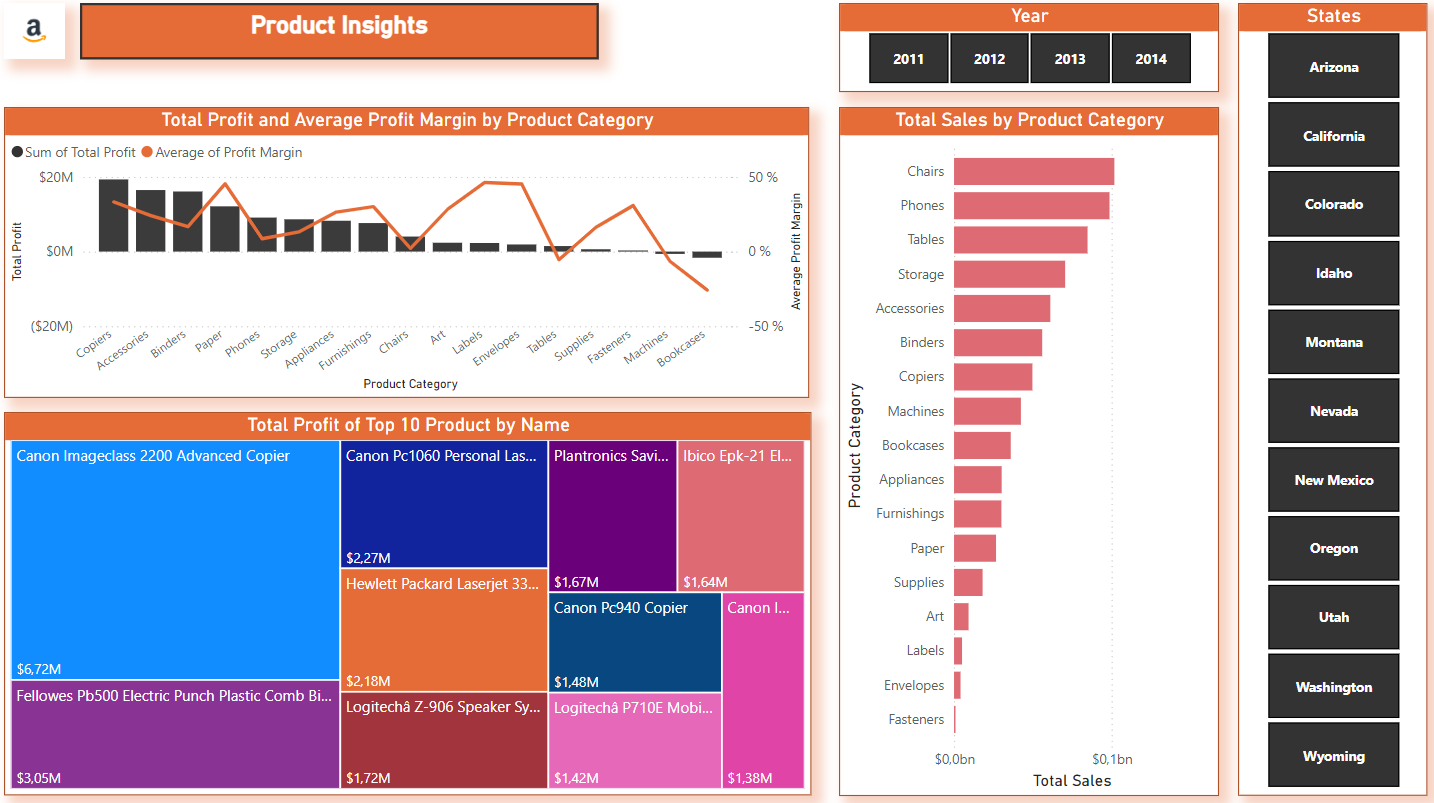

The page's visual inventory and layout, read from the dashboard file:
{"tool":"powerbi","page":{"name":"Product Insights","canvas":[1280,720],"ordinal":1},"visuals":[{"type":"lineClusteredColumnComboChart","title":"Total Profit and Average Profit Margin by  Product Category","fields":{"Category":["Sales.Category"],"Y":["Sum(Sales.Total Profit)"],"Y2":["Avg(Sales.Profit Margin)"]},"box":[8.8,100.2,713.9,257.8],"z":0},{"type":"treemap","title":" Total Profit of Top 10 Product by Name","fields":{"Group":["Sales.Product Name"],"Values":["Sum(Sales.Total Profit)"]},"box":[8.8,370.6,715.9,340.4],"z":1000},{"type":"clusteredBarChart","title":"Total Sales by Product  Category","fields":{"Y":["Sum(Sales.Total Sales)"],"Category":["Sales.Category"]},"box":[748.9,100.2,336.5,610.8],"z":2000},{"type":"slicer","title":"Year","fields":{"Values":["Dates.Year"]},"box":[748.9,7.8,336.5,78.8],"z":3000},{"type":"slicer","title":"States","fields":{"Values":["Sales.States"]},"box":[1103,7.8,168.3,703.2],"z":4000},{"type":"image","box":[8.8,7.8,54.5,49.6],"z":5000},{"type":"textbox","box":[75.9,7.8,460.1,49.6],"z":6000}]}

Visuals, with their boxes in screenshot pixels (x1, y1, x2, y2), scaled from the page's 1280x720 canvas onto the 1434x803 screenshot:
"Total Profit and Average Profit Margin by  Product Category" lineClusteredColumnComboChart: [left=10, top=112, right=810, bottom=399]
" Total Profit of Top 10 Product by Name" treemap: [left=10, top=413, right=812, bottom=793]
"Total Sales by Product  Category" clusteredBarChart: [left=839, top=112, right=1216, bottom=793]
"Year" slicer: [left=839, top=9, right=1216, bottom=97]
"States" slicer: [left=1236, top=9, right=1424, bottom=793]
image: [left=10, top=9, right=71, bottom=64]
textbox: [left=85, top=9, right=600, bottom=64]
